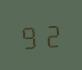nine: (19, 21, 40, 50)
two: (41, 20, 62, 48)
